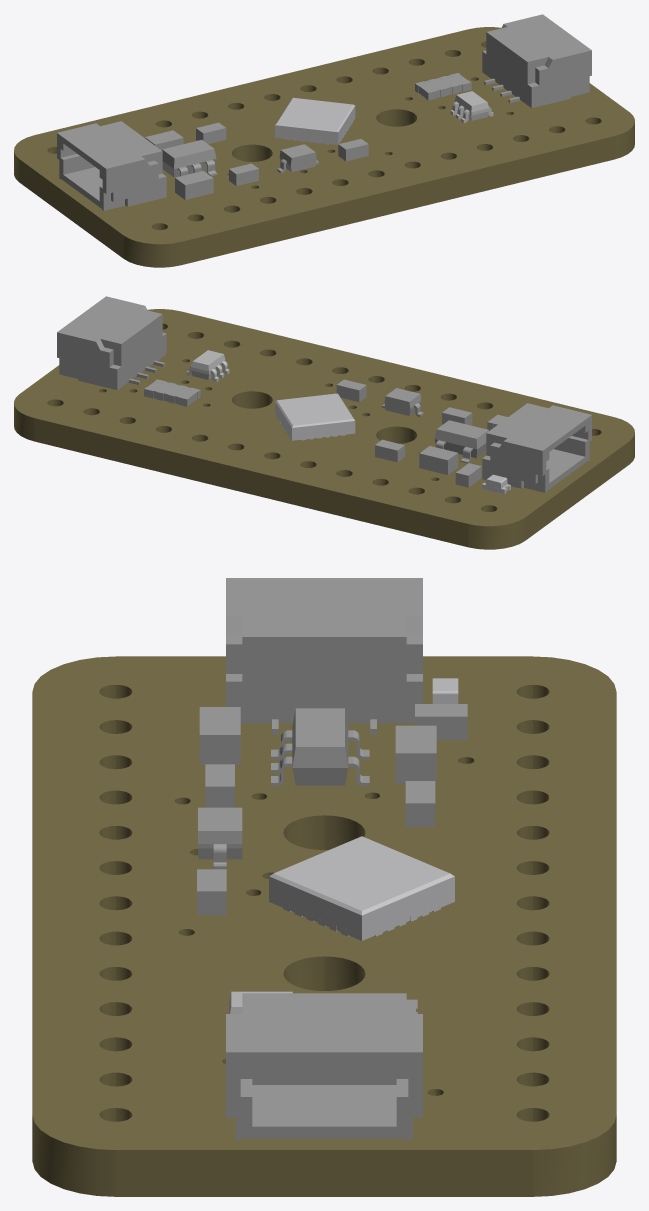
File: ada-4918.glb
The picture shows the model from 3 angles, top to bottom: view 1: azimuth 30°, elevation 25°; view 2: azimuth 150°, elevation 25°; view 3: azimuth 270°, elevation 25°; orthographic projection. The views are drawn at different scales.
Visible parts, largest first — view 1: 0.16666666666666666_0.16666666666666666_0.08333333333333333_, 0.3333333333333333_0.3333333333333333_0.3333333333333333_0, 0.5833333333333334_0.5833333333333334_0.5833333333333334_0.8, 0.5_0.5_0.5_0.85; view 2: 0.16666666666666666_0.16666666666666666_0.08333333333333333_, 0.3333333333333333_0.3333333333333333_0.3333333333333333_0, 0.5833333333333334_0.5833333333333334_0.5833333333333334_0.8, 0.5_0.5_0.5_0.85; view 3: 0.16666666666666666_0.16666666666666666_0.08333333333333333_, 0.3333333333333333_0.3333333333333333_0.3333333333333333_0, 0.5833333333333334_0.5833333333333334_0.5833333333333334_0.8.
Part boxes in pixels (<box>): 0.16666666666666666_0.16666666666666666_0.08333333333333333_: <box>14,27,634,267</box>; 0.3333333333333333_0.3333333333333333_0.3333333333333333_0: <box>57,14,591,210</box>; 0.5833333333333334_0.5833333333333334_0.5833333333333334_0.8: <box>275,97,355,144</box>; 0.5_0.5_0.5_0.85: <box>450,91,493,123</box>; 0.16666666666666666_0.16666666666666666_0.08333333333333333_: <box>14,309,634,549</box>; 0.3333333333333333_0.3333333333333333_0.3333333333333333_0: <box>57,296,591,492</box>; 0.5833333333333334_0.5833333333333334_0.5833333333333334_0.8: <box>275,393,510,493</box>; 0.5_0.5_0.5_0.85: <box>186,350,229,382</box>; 0.16666666666666666_0.16666666666666666_0.08333333333333333_: <box>32,656,616,1196</box>; 0.3333333333333333_0.3333333333333333_0.3333333333333333_0: <box>197,578,467,1139</box>; 0.5833333333333334_0.5833333333333334_0.5833333333333334_0.8: <box>269,678,458,940</box>.
Bounding box in the file's own units: 3.56 × 0.4531 × 1.78.
